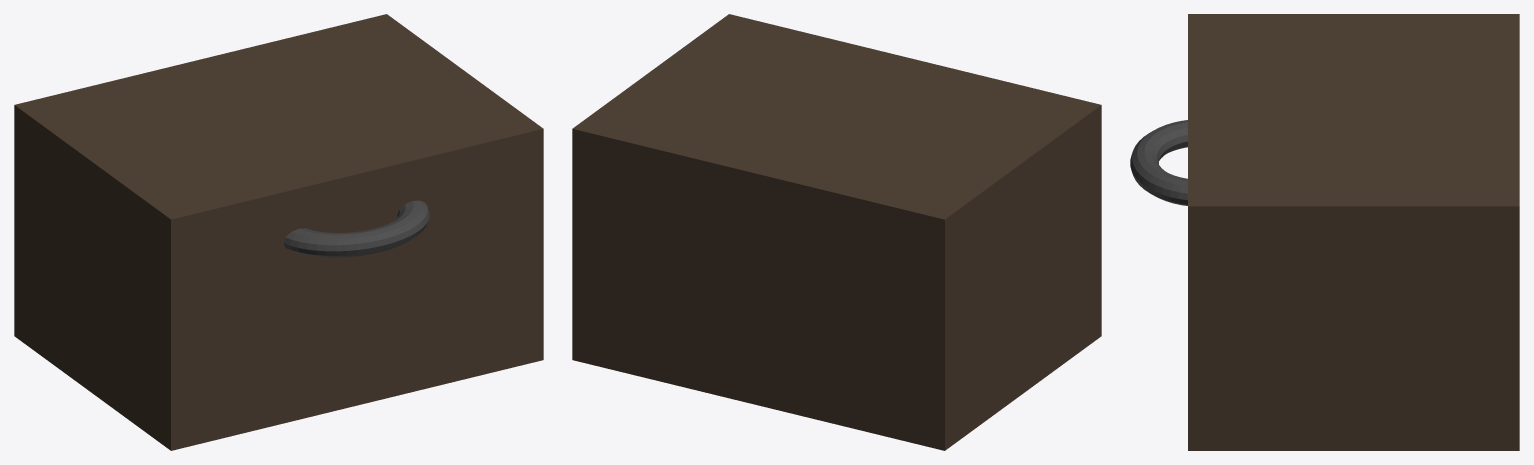
Rendered from Computer_mouseDrawerDrawer (1).fbx.
3 views of the same model, side by side, from view 1: azimuth 30°, elevation 25°; view 2: azimuth 150°, elevation 25°; view 3: azimuth 270°, elevation 25° (orthographic). The views are drawn at different scales.
Visible parts, largest first — view 1: Torus.002; view 2: Torus.002; view 3: Torus.002.
Part boxes in pixels (x1=…): Torus.002: x1=14, y1=14, x2=543, y2=450; Torus.002: x1=572, y1=14, x2=1101, y2=450; Torus.002: x1=1130, y1=14, x2=1519, y2=450.
Bounding box in the file's own units: 337 × 200 × 289.
